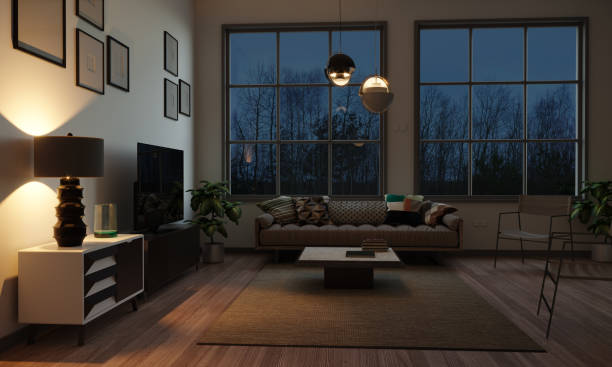TV: (132, 139, 186, 234)
TV stand: (138, 224, 203, 300)
chair: (492, 192, 575, 268)
large plant: (190, 174, 242, 263), (572, 180, 612, 263)
sofa: (252, 191, 466, 264)
table: (295, 242, 401, 292)
table lamp: (31, 132, 107, 249)
wall art: (11, 12, 67, 70), (72, 28, 105, 95), (106, 33, 131, 92), (162, 30, 179, 77), (162, 79, 178, 121), (73, 12, 106, 30), (178, 76, 191, 118)
